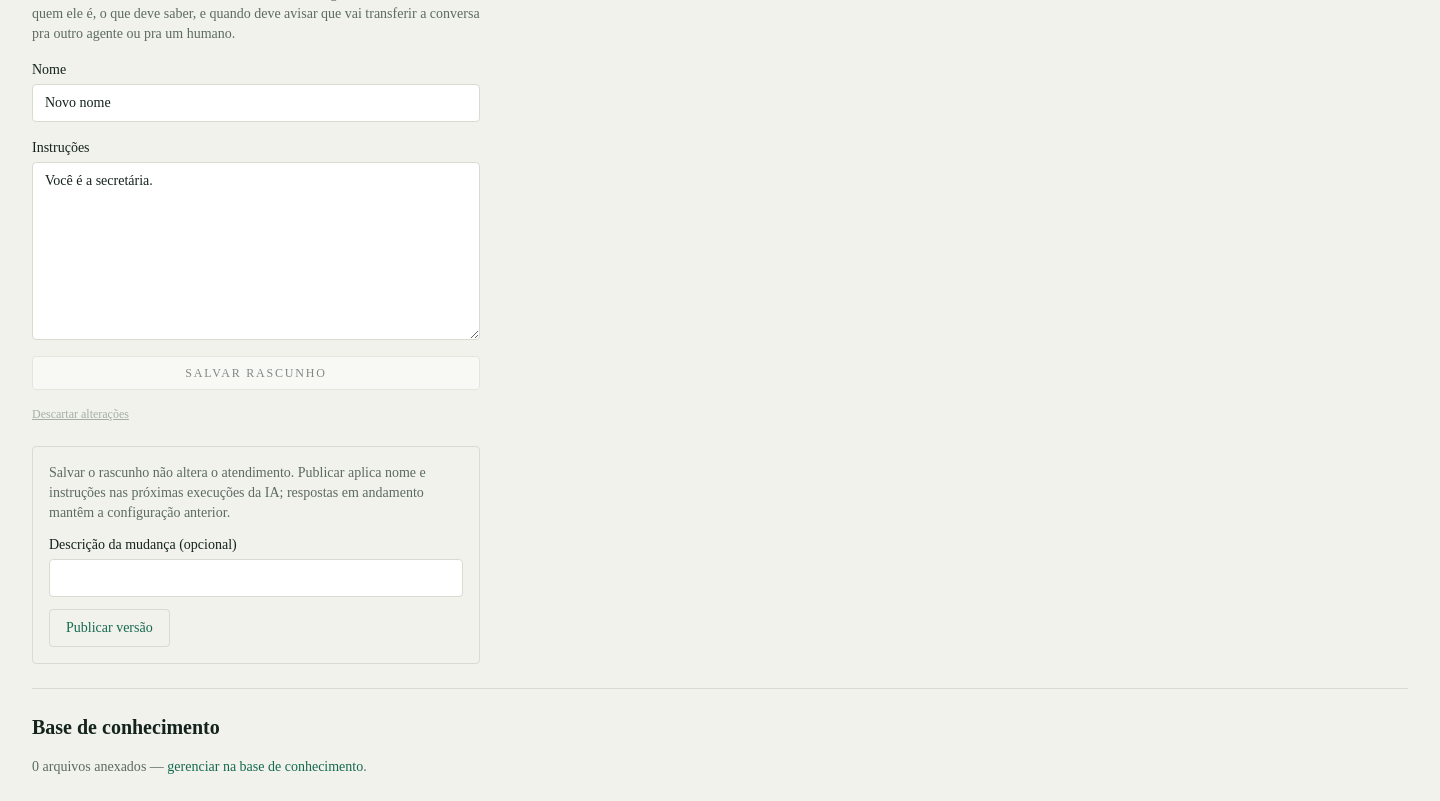
Scenario: AgentDetail › publica somente depois de confirmação explícita
(page scrolled)
Expected: the field showing "Novo nome" is shown, [32,84,480,122]
Click the button "Publicar versão" at x=109, y=628, box [49,608,170,646]
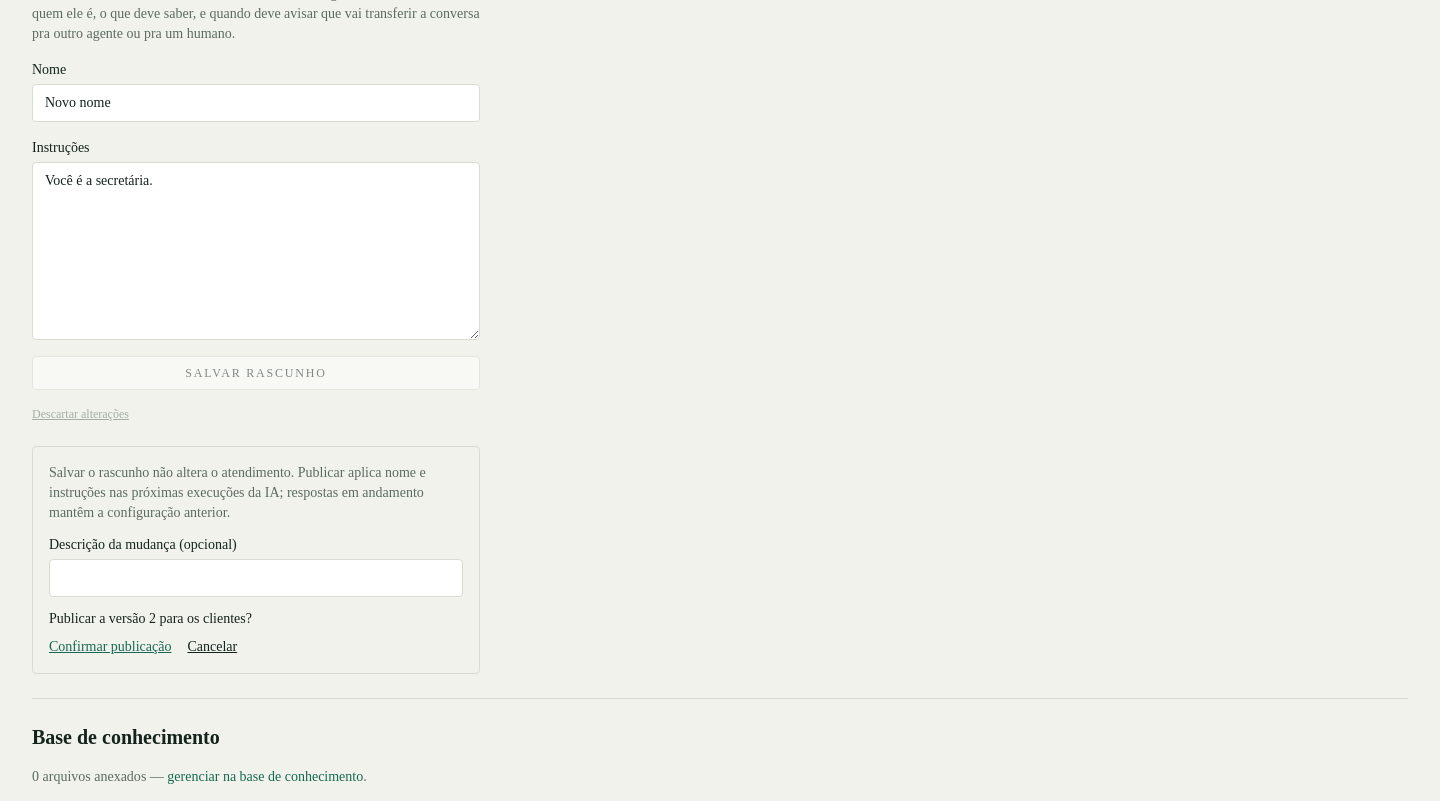
Click the button "Confirmar publicação" at x=110, y=646, box [49,636,172,656]
(page scrolled)
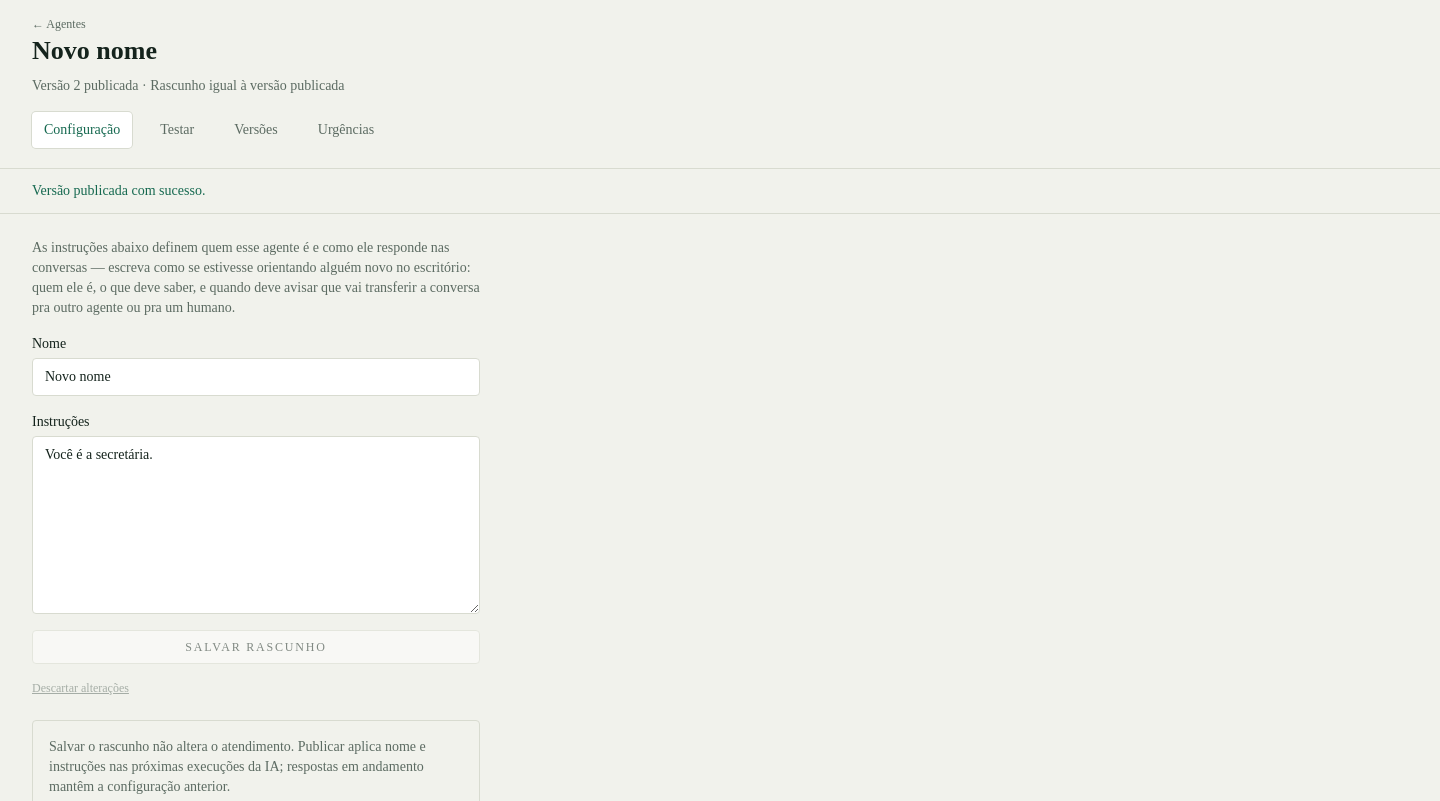
Expected: the text "Versão publicada com sucesso." is shown, [0,168,1439,214]
Expected: the heading reads "Novo nome", [32,36,157,65]
